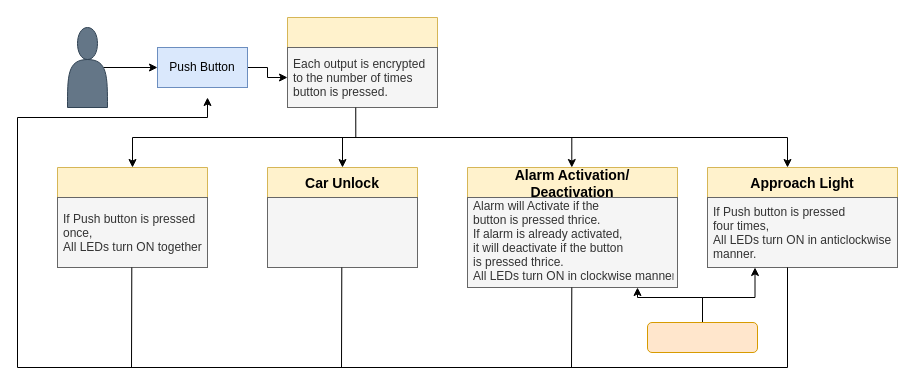
Image size: 915x386. Some labels were removed from this diagram. Each missing label, with the box of its shape:
Car Lock: (56, 166, 208, 268)
Delay: (646, 322, 758, 352)
Encryption: (286, 16, 438, 108)
If Push button is pressed twice, All LEDs turn OFF together: (266, 196, 418, 268)
